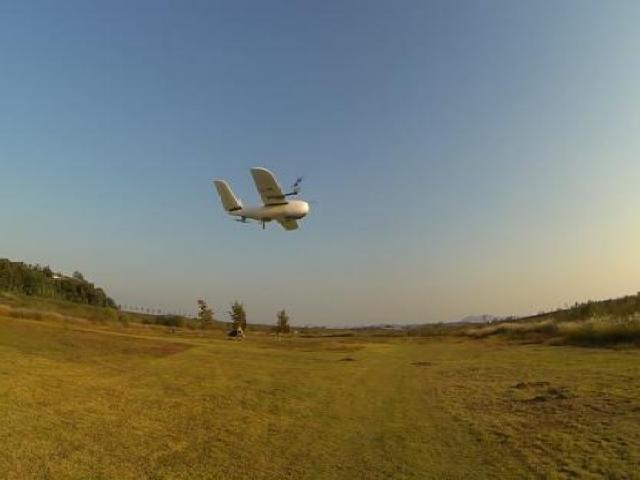uav: (207, 156, 315, 246)
